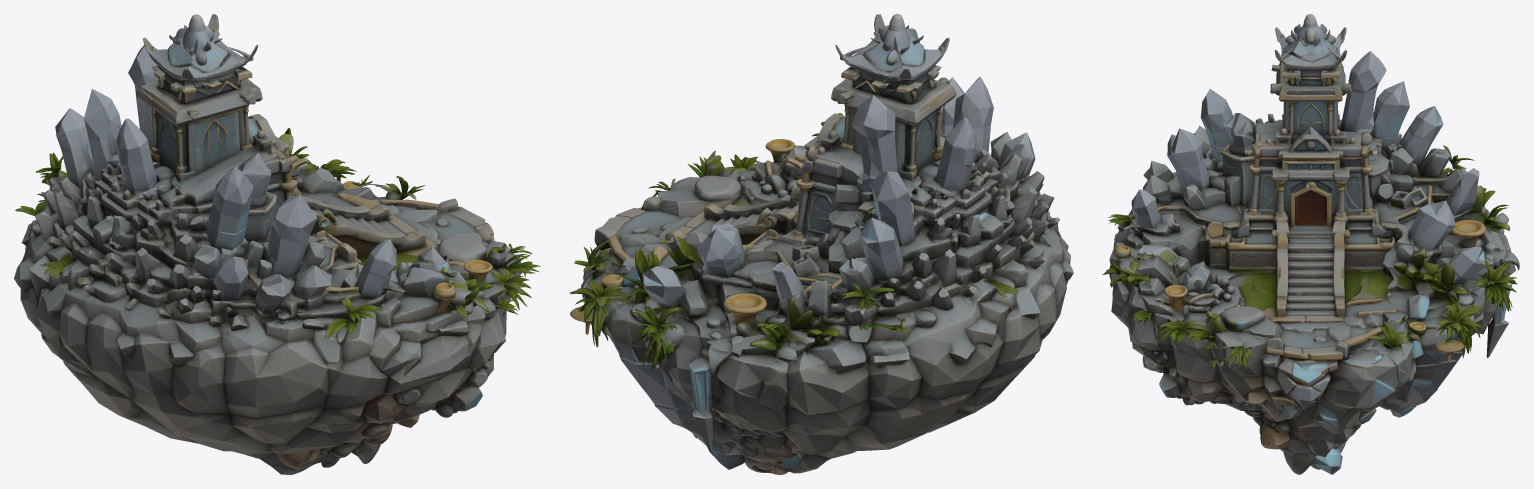
3 renders of one model, left to right at view 1: azimuth 30°, elevation 25°; view 2: azimuth 150°, elevation 25°; view 3: azimuth 270°, elevation 25°, orthographic. The views are drawn at different scales.
Visible parts, largest first — view 1: tripo_node_51a476a6-d21f-461b-a081-249105b80ec4; view 2: tripo_node_51a476a6-d21f-461b-a081-249105b80ec4; view 3: tripo_node_51a476a6-d21f-461b-a081-249105b80ec4.
Part boxes in pixels (x1,y1,x2,y2): tripo_node_51a476a6-d21f-461b-a081-249105b80ec4: (14,14,540,474); tripo_node_51a476a6-d21f-461b-a081-249105b80ec4: (569,14,1073,474); tripo_node_51a476a6-d21f-461b-a081-249105b80ec4: (1102,14,1519,474).
Size of the model in its own units: 0.9542 by 0.9958 by 0.9422.
Materials: 1 (1 with a texture image).
